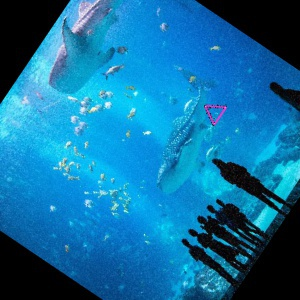triangle: (202, 102, 228, 127)
